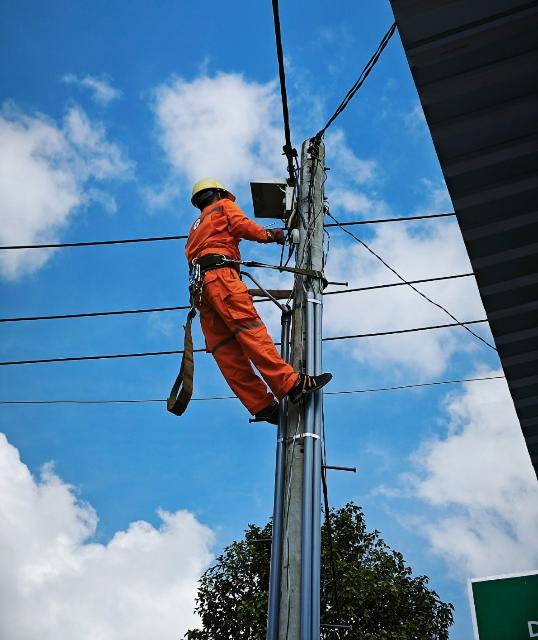gloves: (261, 223, 297, 248)
harness: (180, 250, 252, 284)
helmet: (191, 172, 241, 213)
shoes: (282, 368, 338, 400), (255, 395, 290, 425)
